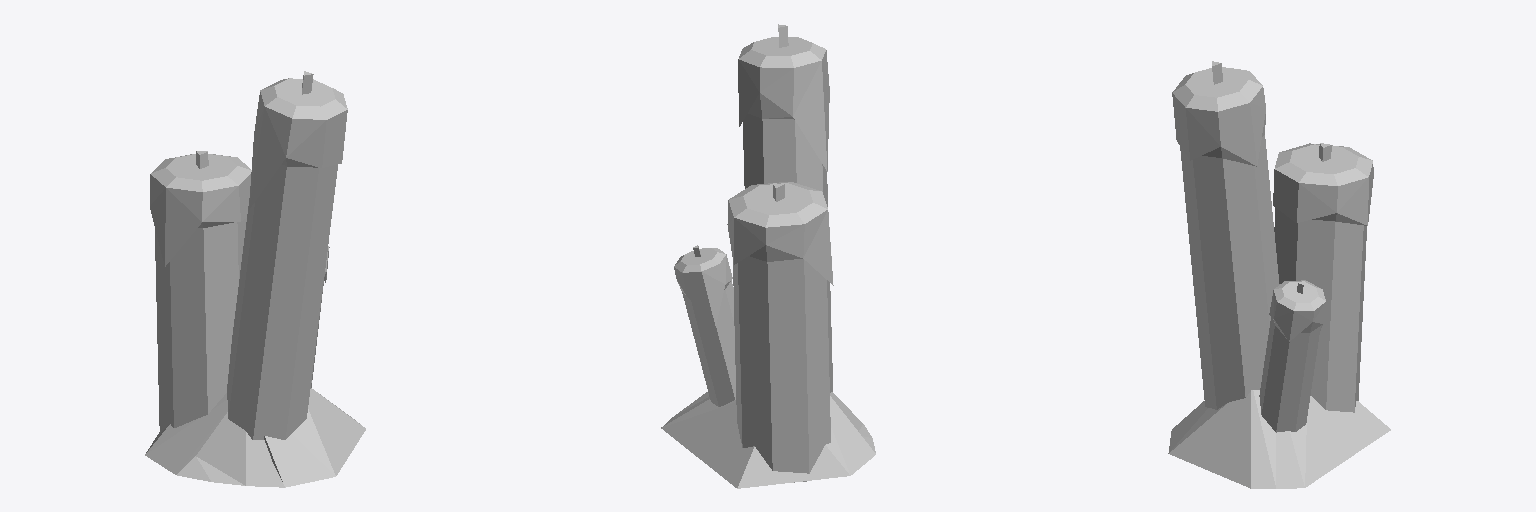
Rendered from candle.obj.
3 renders of one model, left to right at view 1: azimuth 30°, elevation 25°; view 2: azimuth 150°, elevation 25°; view 3: azimuth 270°, elevation 25°, orthographic.
Visible parts, largest first — view 1: candle, candle.002, wax; view 2: candle.002, candle, wax, candle.001; view 3: candle, candle.002, wax, candle.001.
Boxes of the visible parts, x1=… form: candle: x1=227, y1=71, x2=347, y2=439; candle.002: x1=150, y1=151, x2=251, y2=432; wax: x1=145, y1=388, x2=365, y2=487; candle.002: x1=727, y1=182, x2=833, y2=482; candle: x1=738, y1=24, x2=832, y2=392; wax: x1=661, y1=392, x2=875, y2=488; candle.001: x1=674, y1=245, x2=735, y2=406; candle: x1=1172, y1=61, x2=1279, y2=409; candle.002: x1=1273, y1=143, x2=1373, y2=412; wax: x1=1168, y1=390, x2=1390, y2=488; candle.001: x1=1259, y1=280, x2=1325, y2=432.
Bounding box in the file's own units: 0.3132 × 0.6237 × 0.3121.